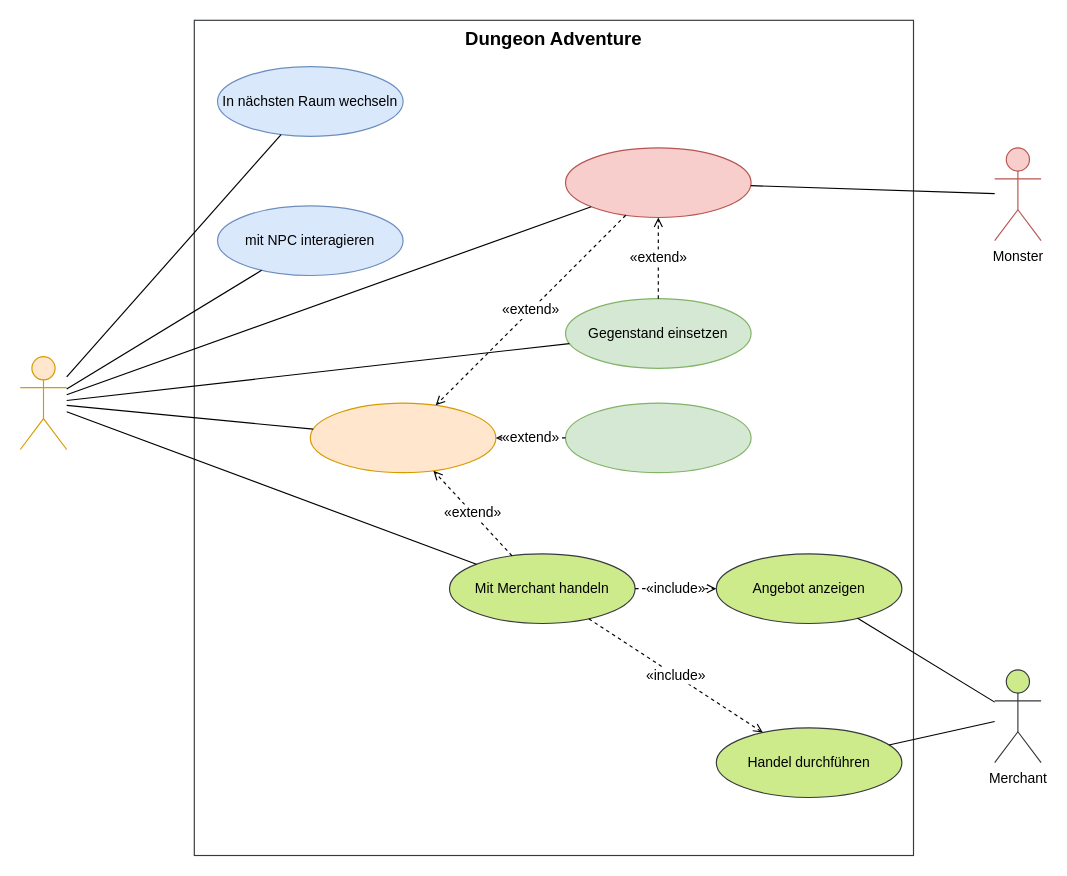
Some shapes in this 1067 by 876 pixel diagram are drawn without their labels. The box of each missing label's shape, as (x1, y1, x2, y2) in pixels:
Gegenstand aufheben: (564, 402, 751, 473)
Monster bekämpfen: (564, 147, 751, 217)
Player: (19, 356, 67, 449)
Raum erkunden: (309, 402, 496, 473)
